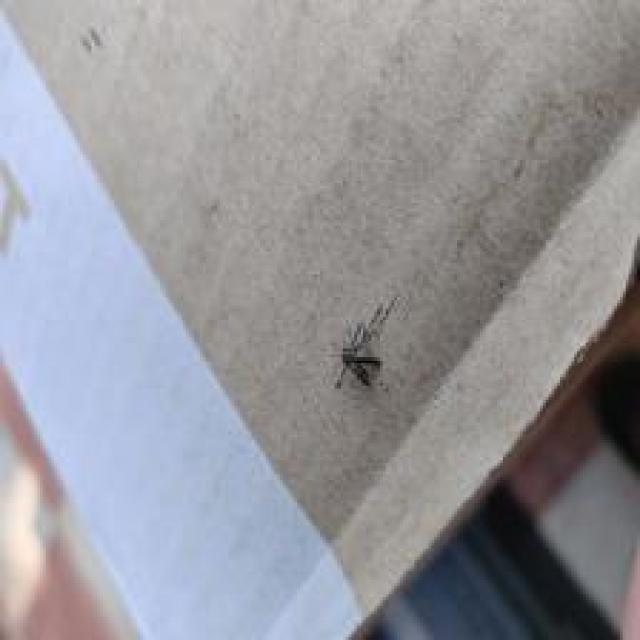Aedes albopictus: (329, 293, 400, 390)
